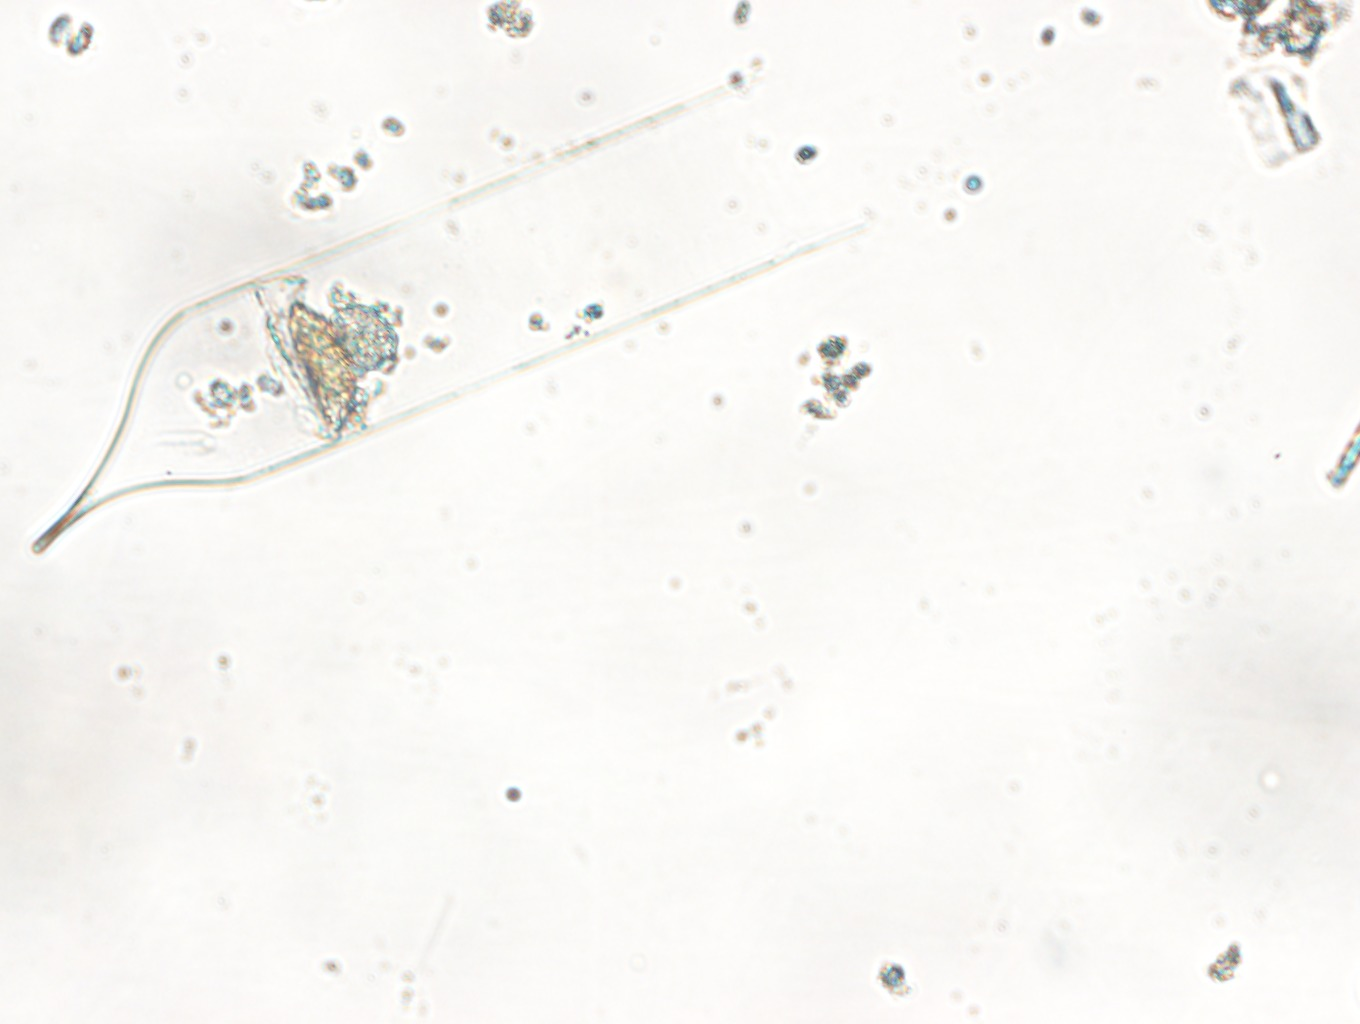rhizosolenia: (27, 65, 892, 561)
